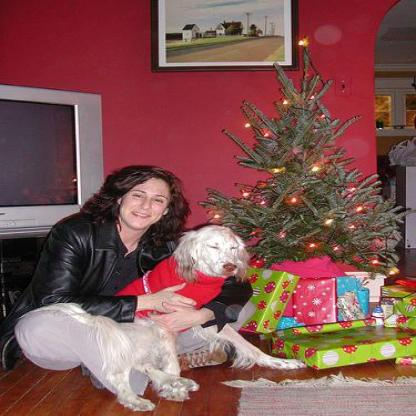English_setter: (12, 225, 302, 412)
